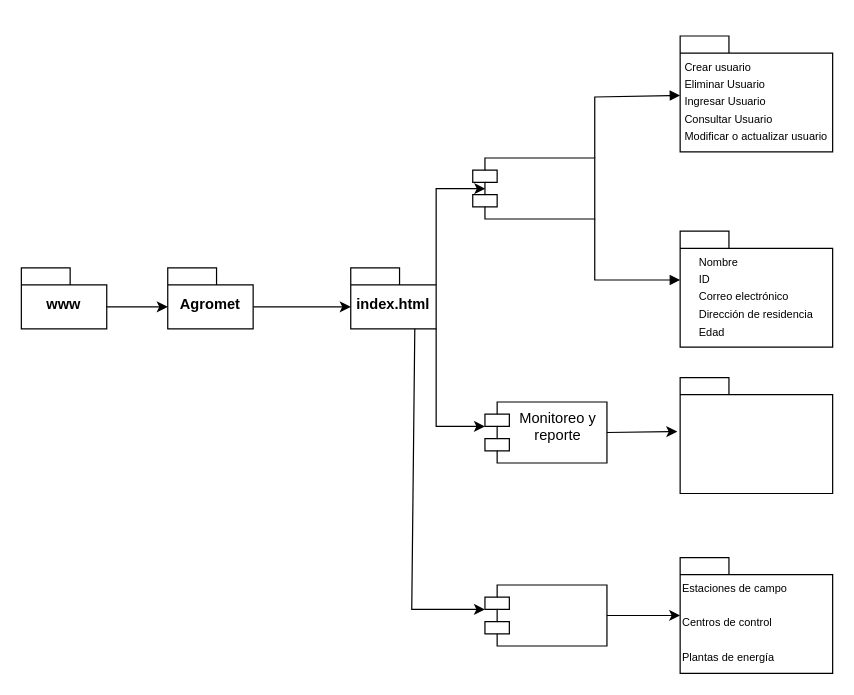
The diagram is 854 pixels wide and 695 high, and some of its shapes have lost their labels. The box of each missing label's shape, as (x1, y1, x2, y2) in pixels:
Estaciones: (484, 584, 607, 646)
Pronósticos Estado de instalaciones: (679, 376, 833, 493)
Usuarios: (472, 157, 595, 219)
